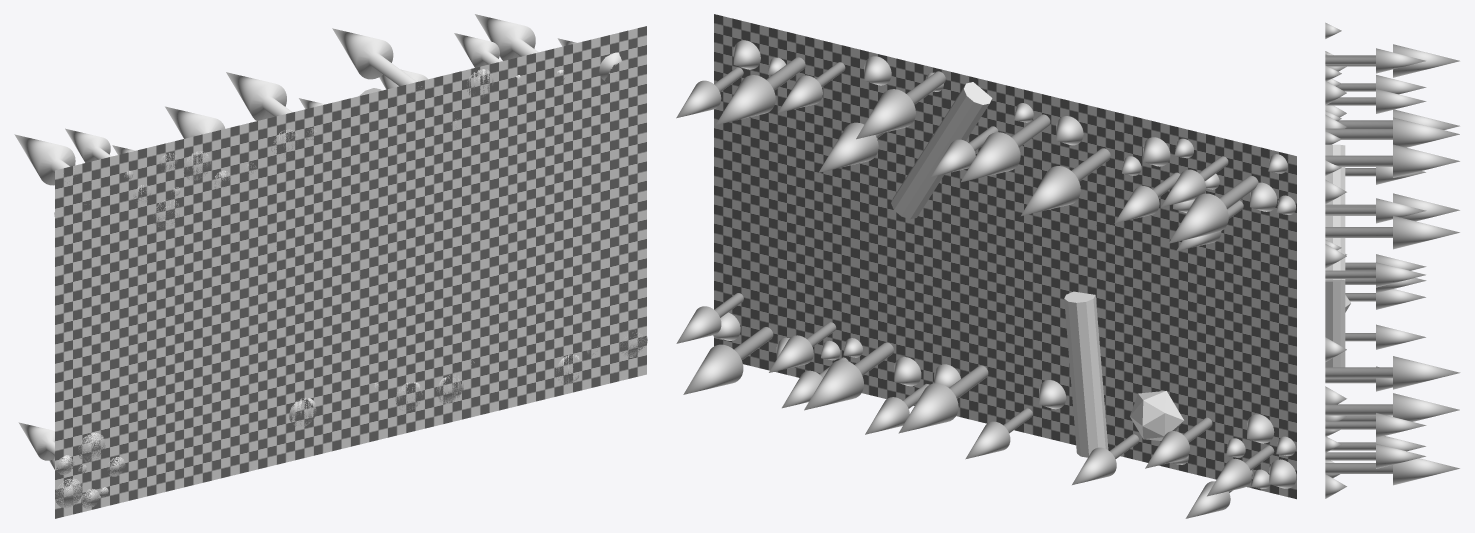
Rendered from forest8.dae.
The picture shows the model from 3 angles, left to right: view 1: azimuth 30°, elevation 25°; view 2: azimuth 150°, elevation 25°; view 3: azimuth 270°, elevation 25°; orthographic projection. The views are drawn at different scales.
Parts seen in each view (by area): view 1: Plane.010, Cone.557, Cone.564, Cone.556, Cone.576, Cone.566, Cone.586, Cone.584, Cone.572; view 2: Plane.010, Cylinder, Cylinder.001, Cone.546, Cone.563, Cone.550, Cone.556, Cone.557, Cone.564, Cone.566, Cone.576, Icosphere.015 (+15 smaller); view 3: Cone.563, Cone.557, Cone.556, Cone.550, Cone.564, Cone.546, Cylinder, Cylinder.001, Cone.540, Cone.468, Cone.586, Cone.549 (+21 smaller).
Part boxes in pixels (left/top/right/bottom): Plane.010: left=55, top=26, right=646, bottom=518; Cone.557: left=332, top=28, right=421, bottom=95; Cone.564: left=226, top=72, right=316, bottom=139; Cone.556: left=475, top=14, right=564, bottom=82; Cone.576: left=14, top=134, right=75, bottom=185; Cone.566: left=165, top=106, right=256, bottom=172; Cone.586: left=65, top=128, right=133, bottom=180; Cone.584: left=454, top=33, right=522, bottom=79; Cone.572: left=18, top=422, right=86, bottom=473; Plane.010: left=714, top=14, right=1296, bottom=499; Cylinder: left=1064, top=291, right=1108, bottom=457; Cylinder.001: left=891, top=82, right=992, bottom=219; Cone.546: left=683, top=327, right=773, bottom=394; Cone.563: left=898, top=365, right=988, bottom=433; Cone.550: left=804, top=342, right=893, bottom=410; Cone.556: left=716, top=57, right=805, bottom=124; Cone.557: left=856, top=71, right=945, bottom=139; Cone.564: left=961, top=114, right=1050, bottom=182; Cone.566: left=1021, top=148, right=1110, bottom=215; Cone.576: left=1169, top=175, right=1258, bottom=243; Icosphere.015: left=1130, top=391, right=1183, bottom=440; Cone.563: left=1325, top=356, right=1460, bottom=389; Cone.557: left=1325, top=144, right=1459, bottom=177; Cone.556: left=1325, top=215, right=1459, bottom=249; Cone.550: left=1325, top=393, right=1459, bottom=421; Cone.564: left=1325, top=117, right=1459, bottom=147; Cone.546: left=1325, top=458, right=1459, bottom=485; Cylinder: left=1325, top=281, right=1345, bottom=367; Cylinder.001: left=1325, top=144, right=1345, bottom=281; Cone.540: left=1325, top=443, right=1425, bottom=468; Cone.468: left=1325, top=262, right=1425, bottom=287; Cone.586: left=1325, top=48, right=1425, bottom=73; Cone.549: left=1325, top=413, right=1426, bottom=437.
Bounding box in the file's own units: 64.07 × 16 × 37.08.
